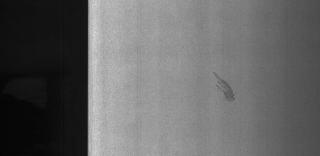water spot: (210, 66, 240, 108), (210, 68, 243, 106)
